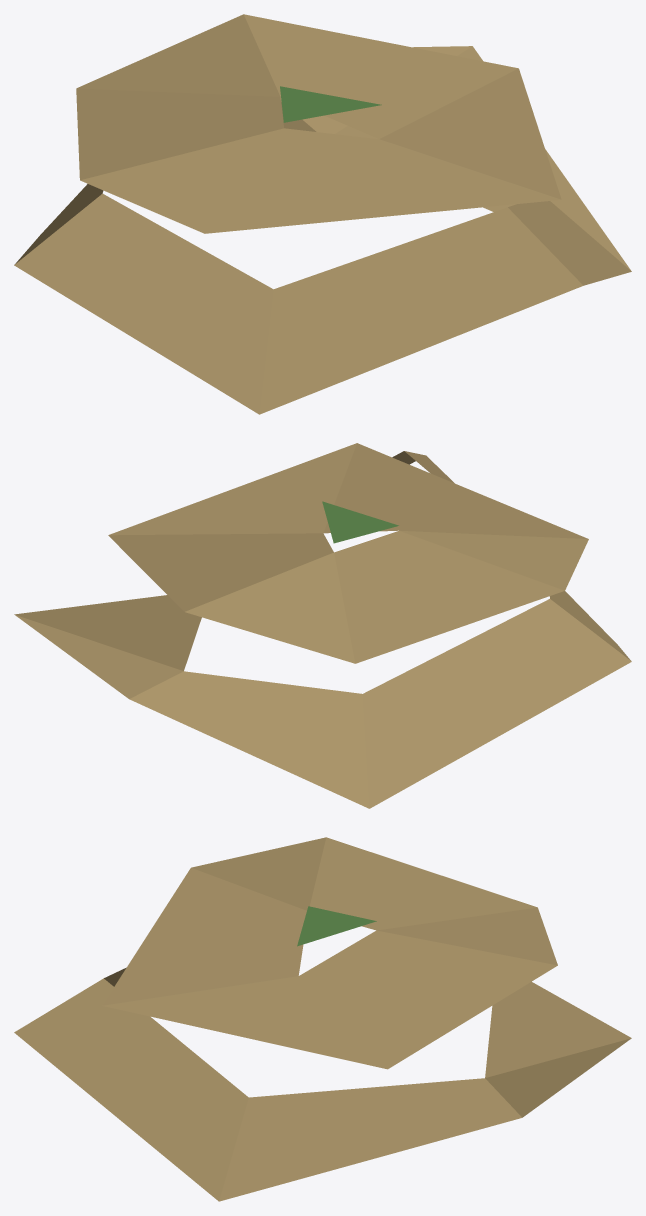
Rendered from coast-island.lod2.glb.
The picture shows the model from 3 angles, top to bottom: view 1: azimuth 30°, elevation 25°; view 2: azimuth 150°, elevation 25°; view 3: azimuth 270°, elevation 25°; orthographic projection. The views are drawn at different scales.
Visible parts, largest first — view 1: coast-island__body; view 2: coast-island__body; view 3: coast-island__body.
Boxes of the visible parts, x1,y1,x2,y2 form: coast-island__body: (14,14,631,414); coast-island__body: (14,443,631,808); coast-island__body: (14,837,631,1201).
Size of the model in its own units: 12.38 by 3.88 by 12.94.
